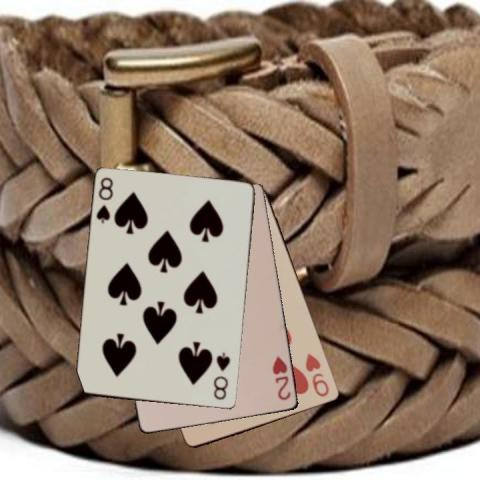2h: (269, 354, 293, 402)
8s: (93, 174, 115, 225), (211, 350, 232, 402)
9h: (303, 350, 331, 398)
